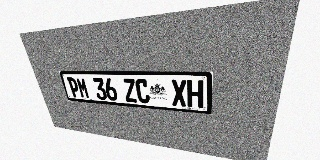3: (92, 78, 108, 100)
6: (103, 78, 118, 101)
C: (135, 79, 150, 104)
H: (187, 80, 204, 108)
M: (76, 77, 90, 99)
P: (67, 77, 81, 98)
X: (171, 79, 187, 107)
Z: (122, 78, 138, 103)
